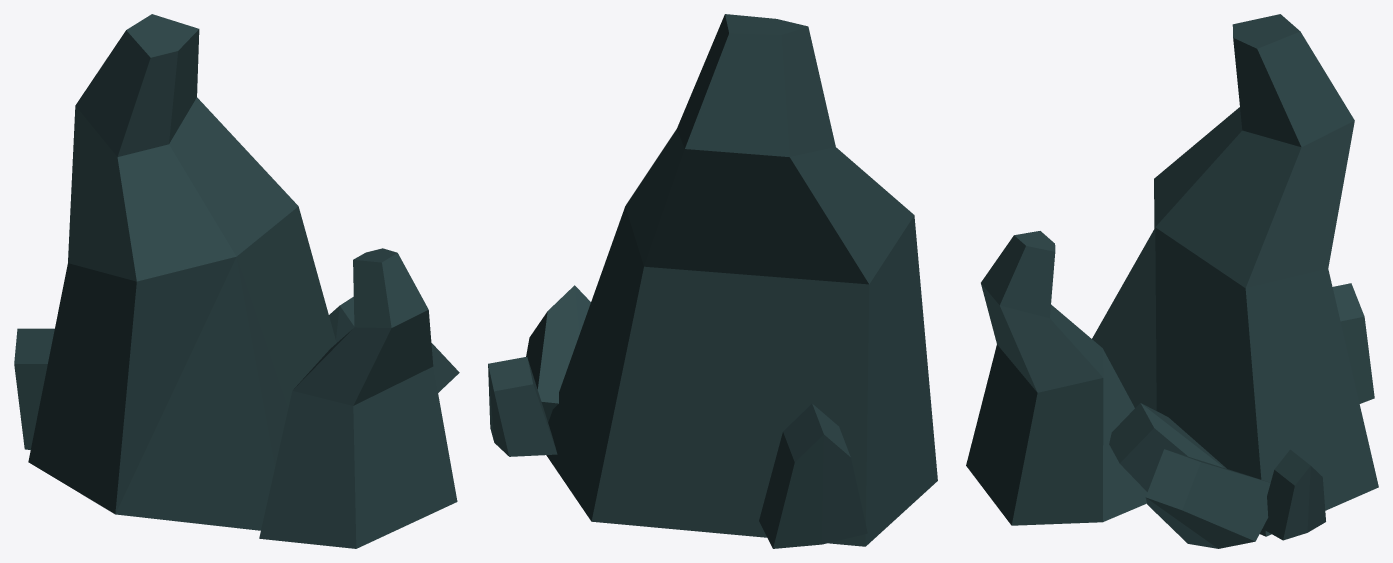
File: lp_Rock_Type3_01_mesh_001_Cube_013.obj
The picture shows the model from 3 angles, left to right: view 1: azimuth 30°, elevation 25°; view 2: azimuth 150°, elevation 25°; view 3: azimuth 270°, elevation 25°; orthographic projection. The views are drawn at different scales.
Visible parts, largest first — view 1: lp_Rock_Type3_01_mesh_001_Cube_013; view 2: lp_Rock_Type3_01_mesh_001_Cube_013; view 3: lp_Rock_Type3_01_mesh_001_Cube_013.
Part boxes in pixels (<box>): lp_Rock_Type3_01_mesh_001_Cube_013: <box>14,14,459,548</box>; lp_Rock_Type3_01_mesh_001_Cube_013: <box>488,14,937,548</box>; lp_Rock_Type3_01_mesh_001_Cube_013: <box>966,14,1378,548</box>.
Size of the model in its own units: 4.43 by 5.15 by 4.44.
